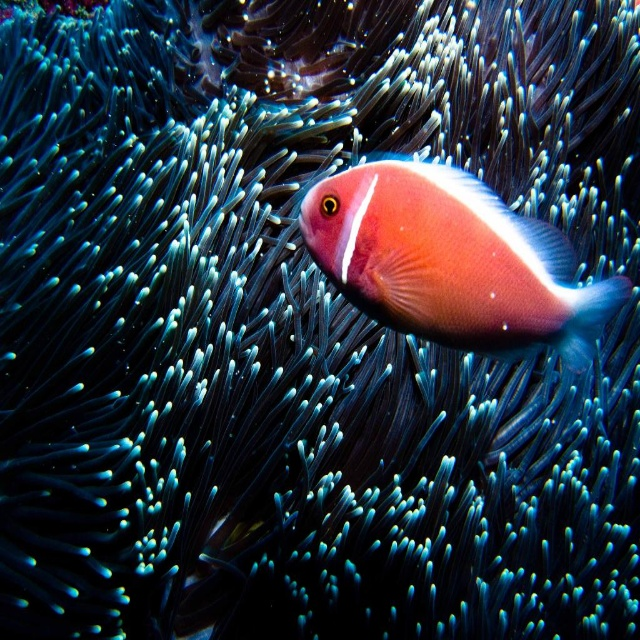Fish: (293, 151, 631, 373)
